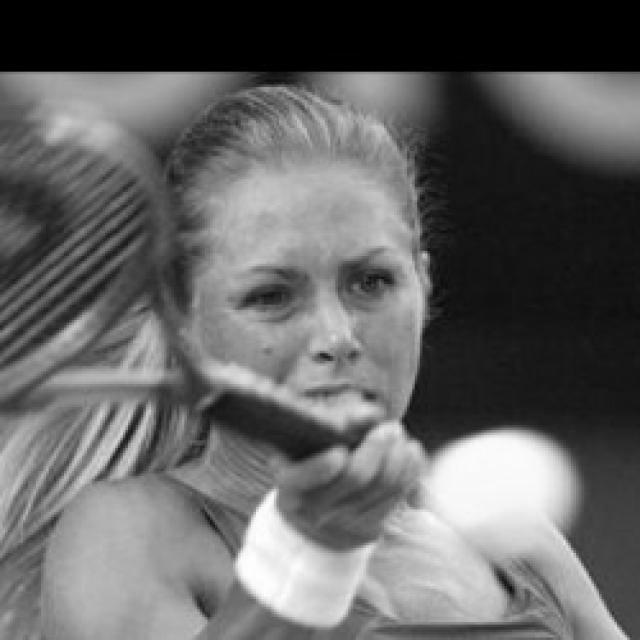real: (194, 164, 436, 439), (218, 255, 410, 323)
